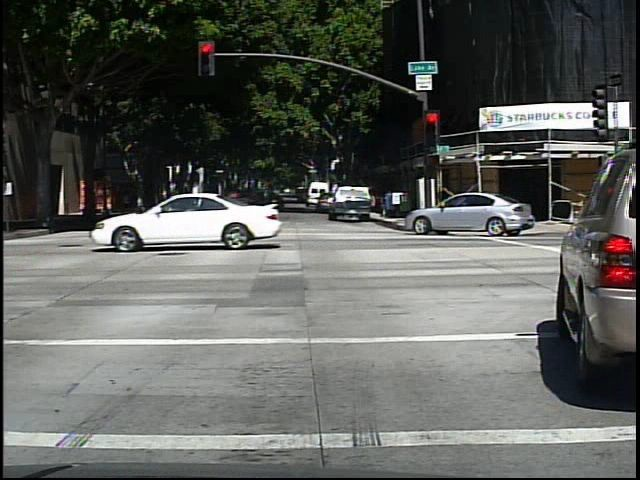person: (87, 186, 103, 220)
